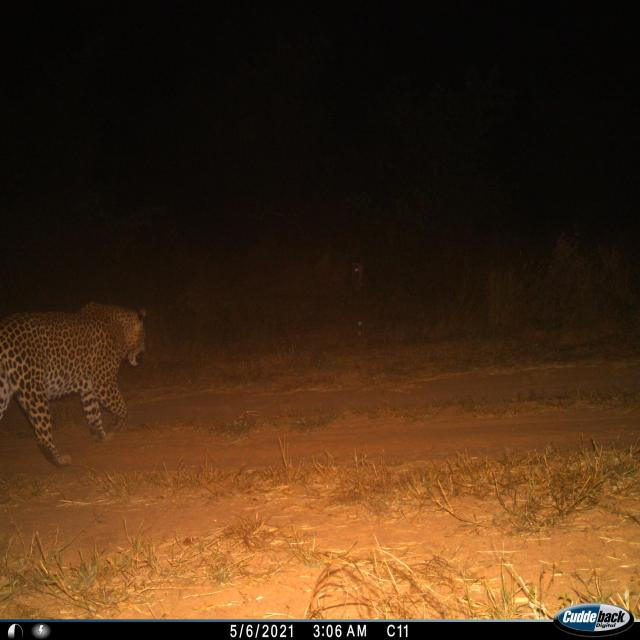Leopard: (0, 289, 158, 479)
